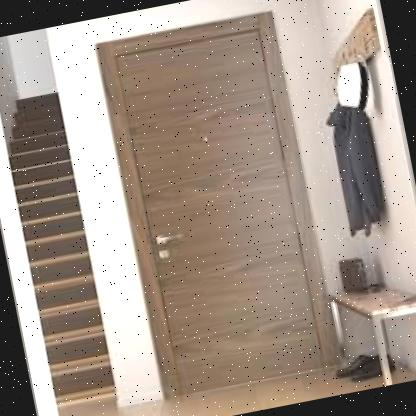door: (85, 0, 348, 414)
stair: (0, 87, 118, 415)
